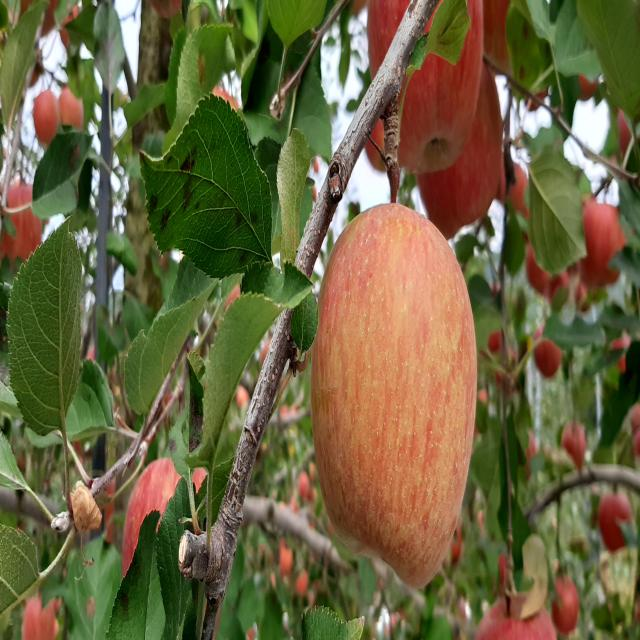fresh: (308, 187, 482, 595)
